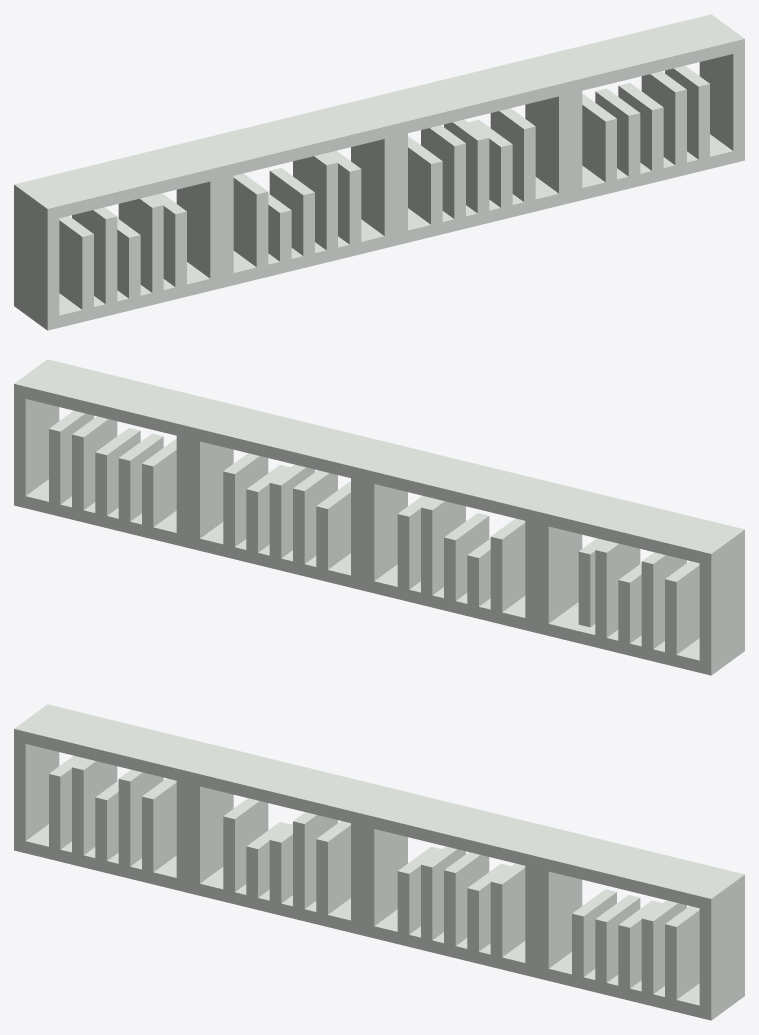
The model's file is bookshelf.obj.
3 renders of one model, top to bottom at view 1: azimuth 30°, elevation 25°; view 2: azimuth 150°, elevation 25°; view 3: azimuth 330°, elevation 25°, orthographic.
Size of the model in its own units: 6 by 1 by 0.5.
Materials: 1 (1 with a texture image).
